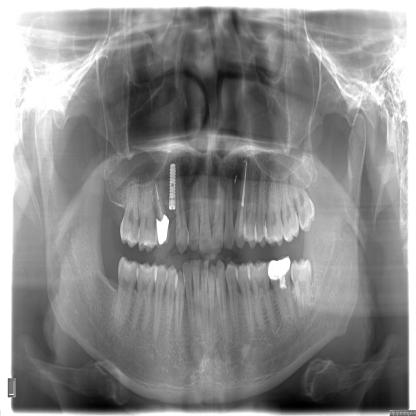ITI: (168, 161, 177, 211)
